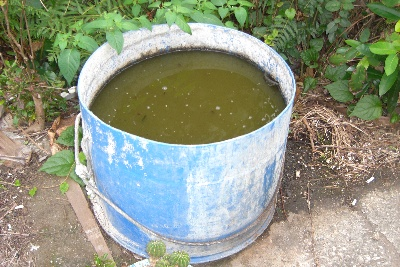bucket: (75, 21, 296, 264)
